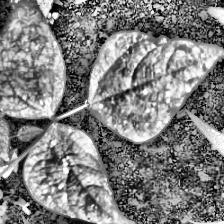Bean Rust: (85, 31, 224, 144), (26, 122, 131, 224), (0, 0, 65, 121)
